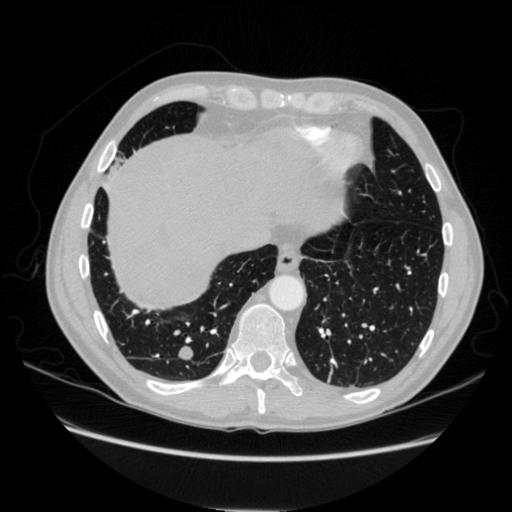nodule: (175, 343, 195, 363)
